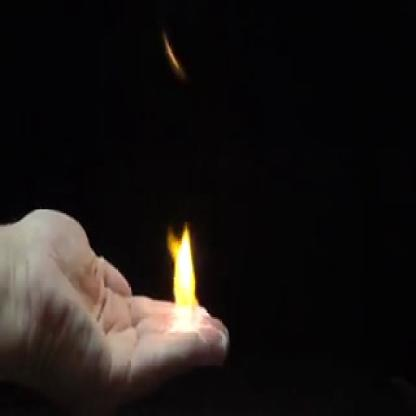fire: (164, 218, 204, 334)
